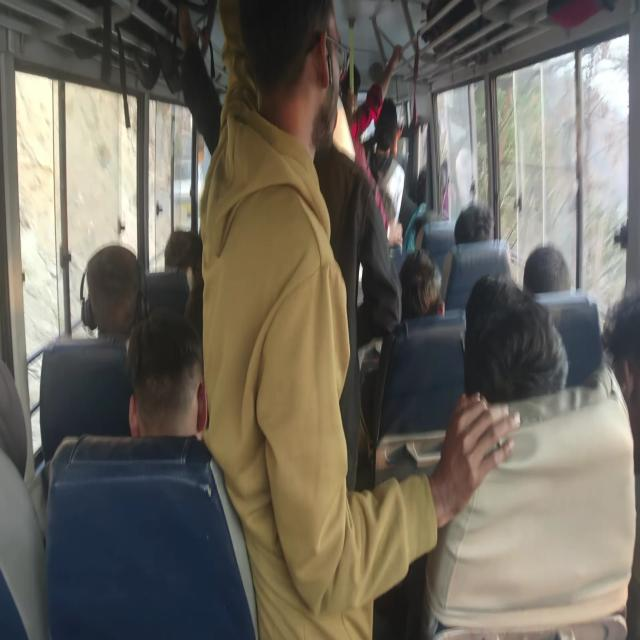person: (239, 18, 341, 158), (468, 305, 562, 446), (0, 361, 52, 552), (134, 306, 196, 444), (598, 308, 640, 432), (342, 47, 383, 144), (392, 248, 436, 334), (516, 247, 561, 312), (460, 195, 493, 260), (96, 258, 136, 307), (372, 74, 403, 134), (414, 166, 448, 220), (172, 238, 206, 290)
